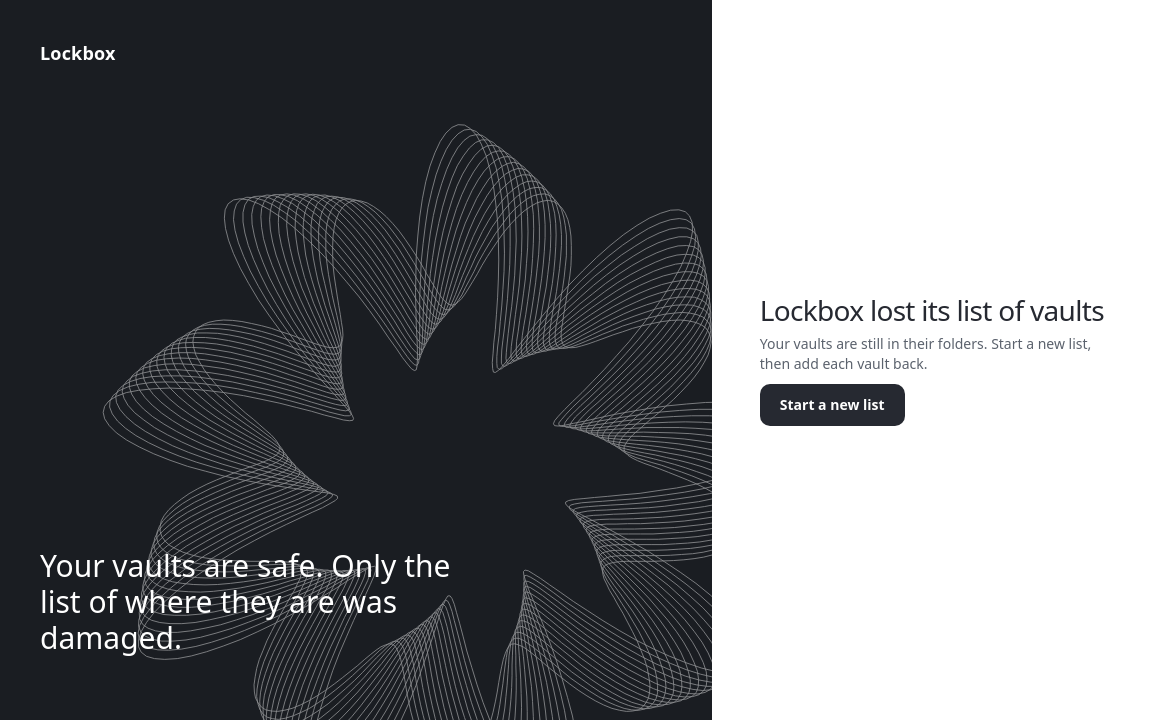
Test case: a_list_mended_from_outside_leaves_the_screen_when_the_button_is_pressed
Expected: the heading "Lockbox lost its list of vaults" is shown, left=760, top=294, right=1104, bottom=328
Click the button "Start a new list".
click(832, 405)  # box left=760, top=384, right=905, bottom=426
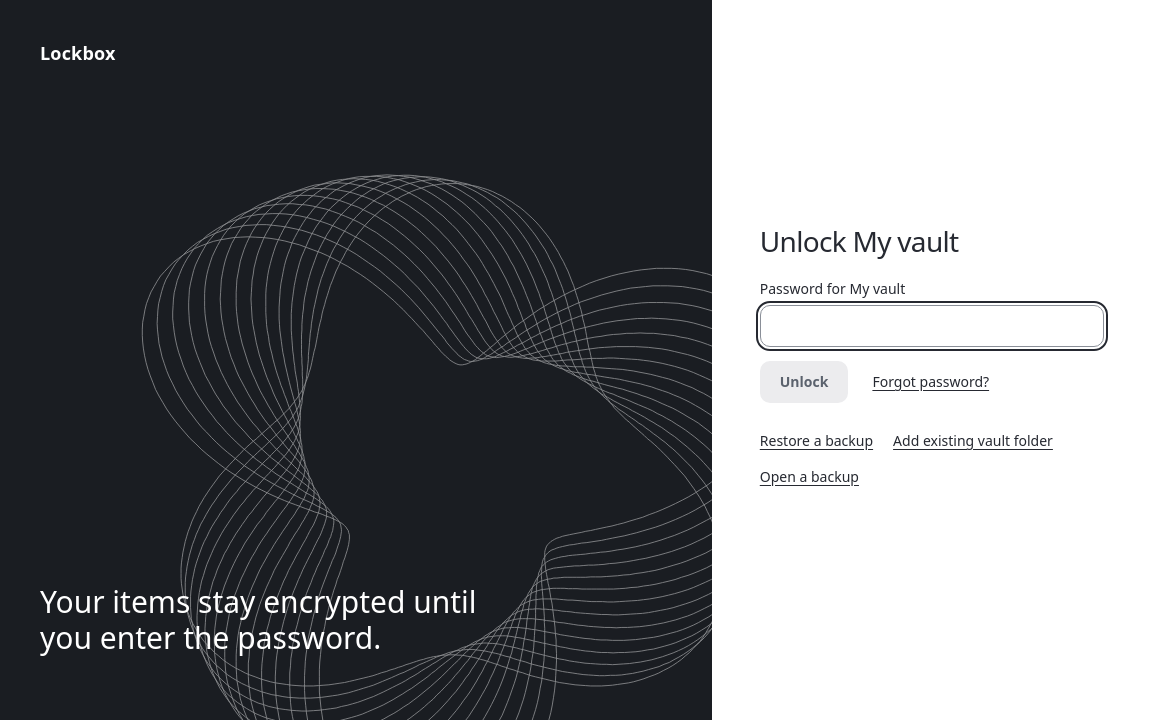
Expected: the heading "Unlock My vault" is shown, left=760, top=222, right=958, bottom=260
Expected: the heading "Lockbox lost its list of vaults" is gone
Expected: the text "Start a new list" is gone
